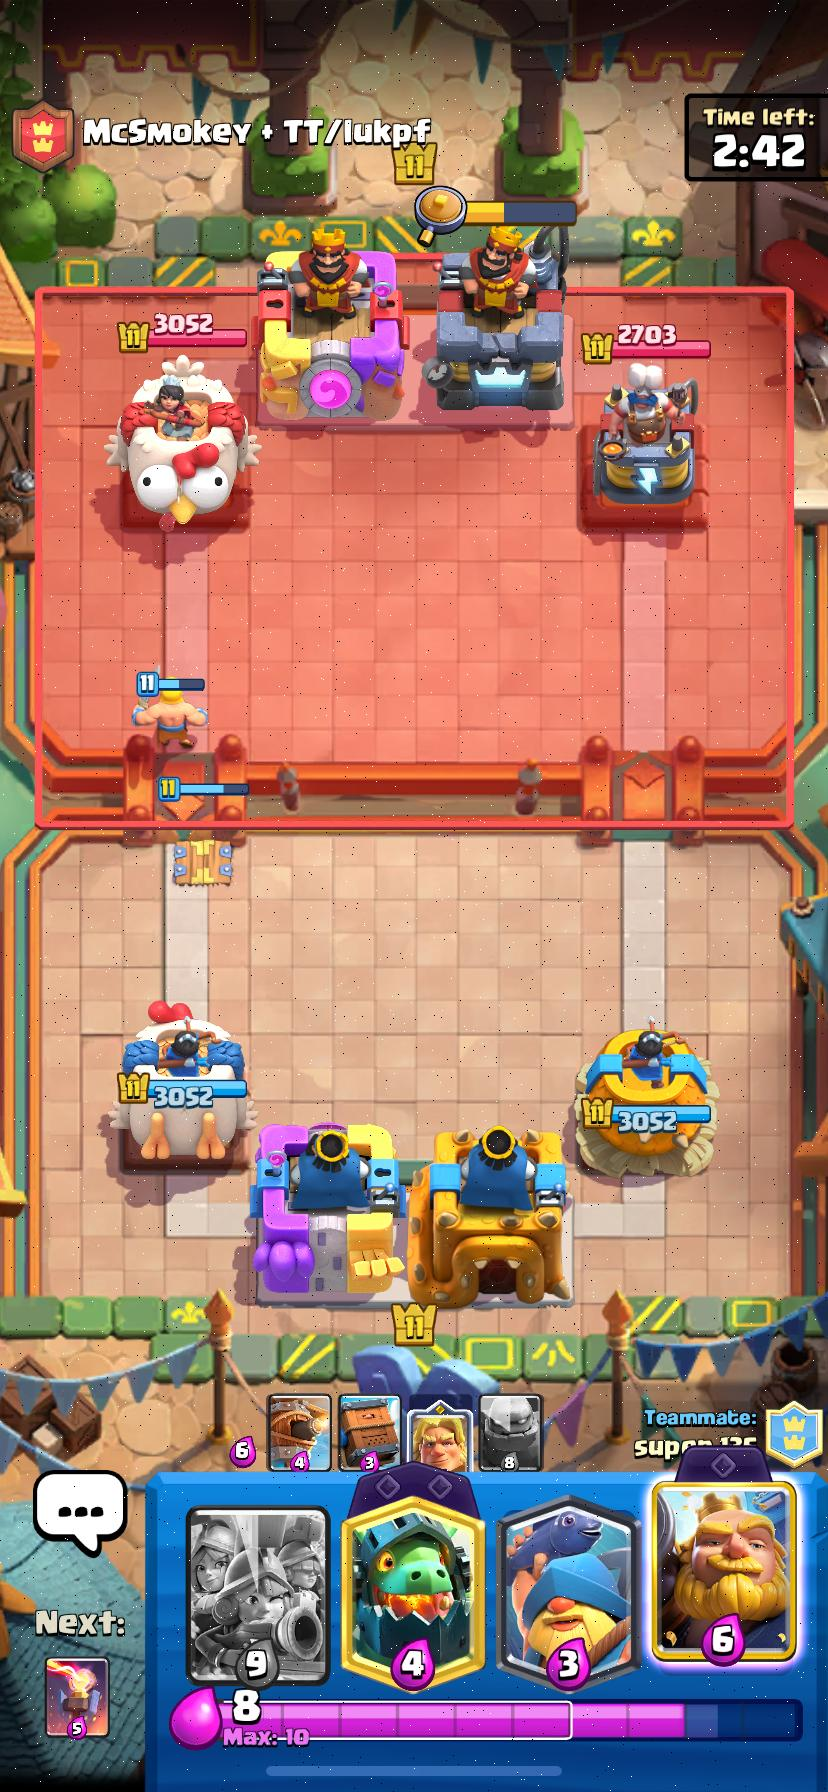EKingTower: (422, 225, 567, 410), (263, 226, 403, 416)
EnemyPanTower: (594, 362, 696, 506)
EnemyPrincessTower: (106, 365, 257, 523)
OBarb: (132, 691, 205, 752)
OTesla: (172, 839, 232, 885)
OwnKingTower: (408, 1125, 572, 1307), (252, 1123, 401, 1301)
OwnPrincessTower: (578, 1019, 717, 1174), (111, 1016, 255, 1159)
